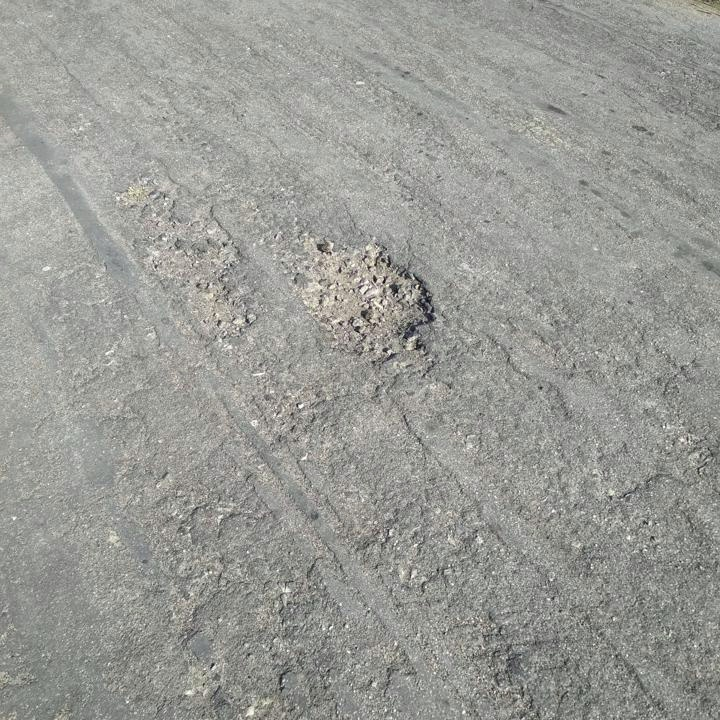pothole: (108, 178, 257, 343), (287, 231, 439, 364)
